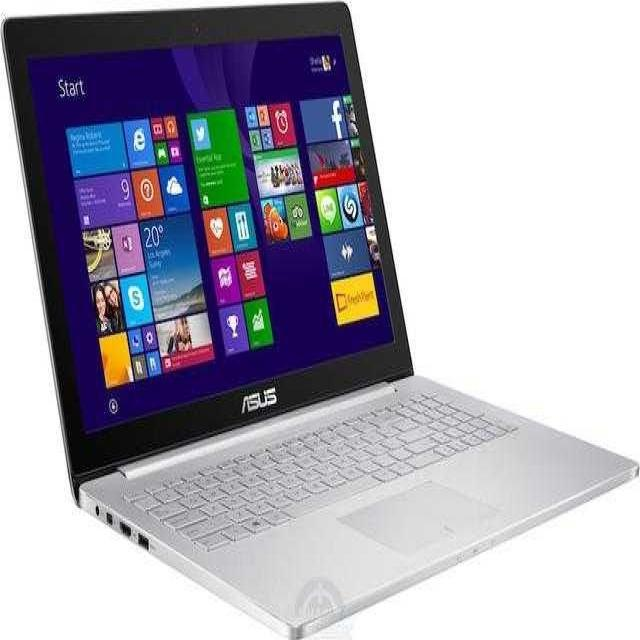laptop: (1, 11, 632, 618)
